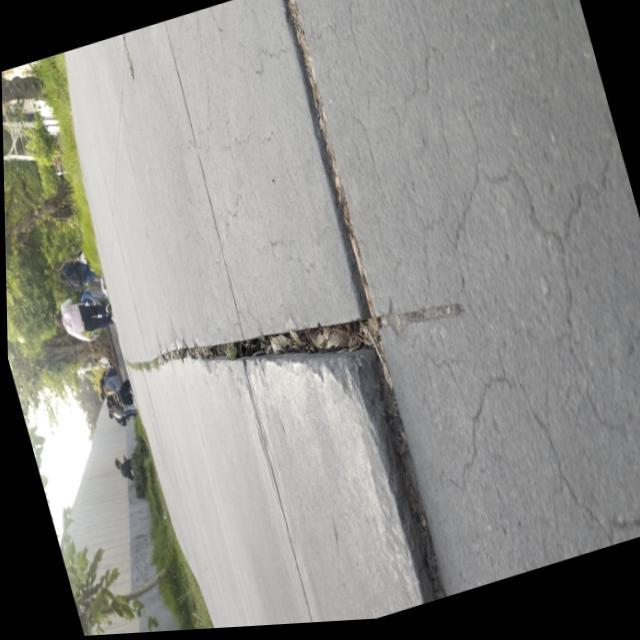bump: (324, 296, 454, 617)
